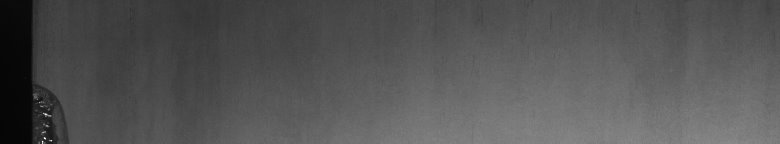hb: (44, 82, 72, 136)
